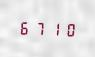one: (46, 19, 59, 37)
seven: (32, 19, 45, 36)
six: (18, 18, 31, 36)
zero: (60, 20, 73, 37)
